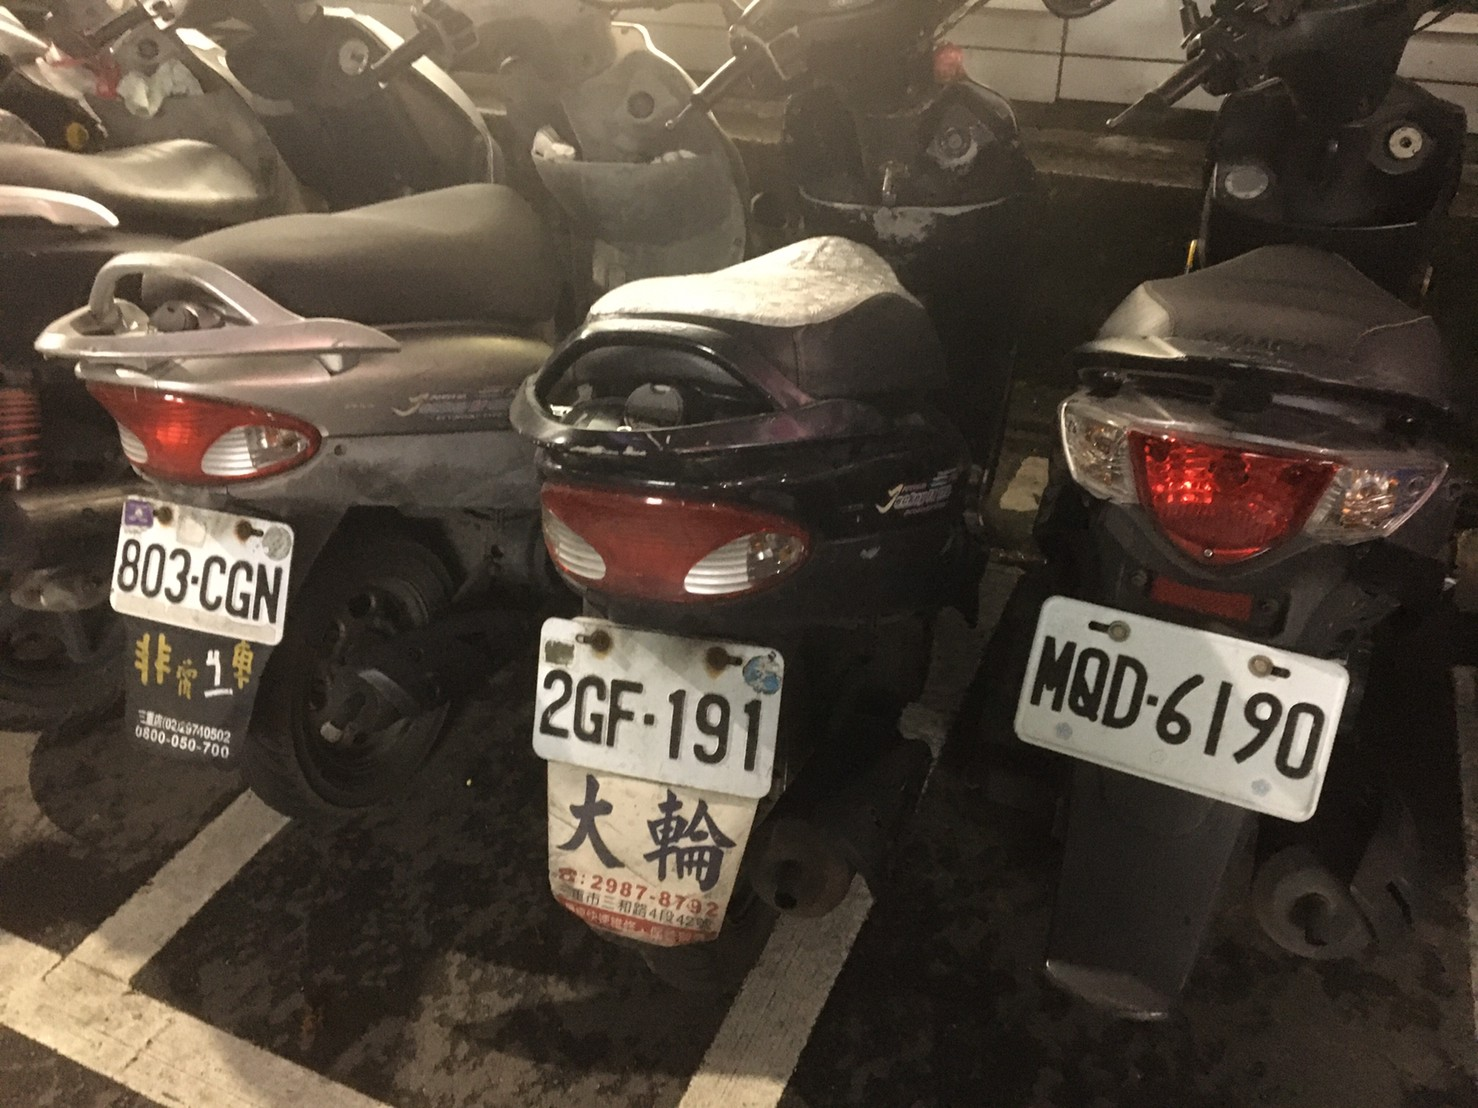LP: (1015, 618, 1335, 793), (527, 606, 776, 800), (108, 493, 284, 639)
